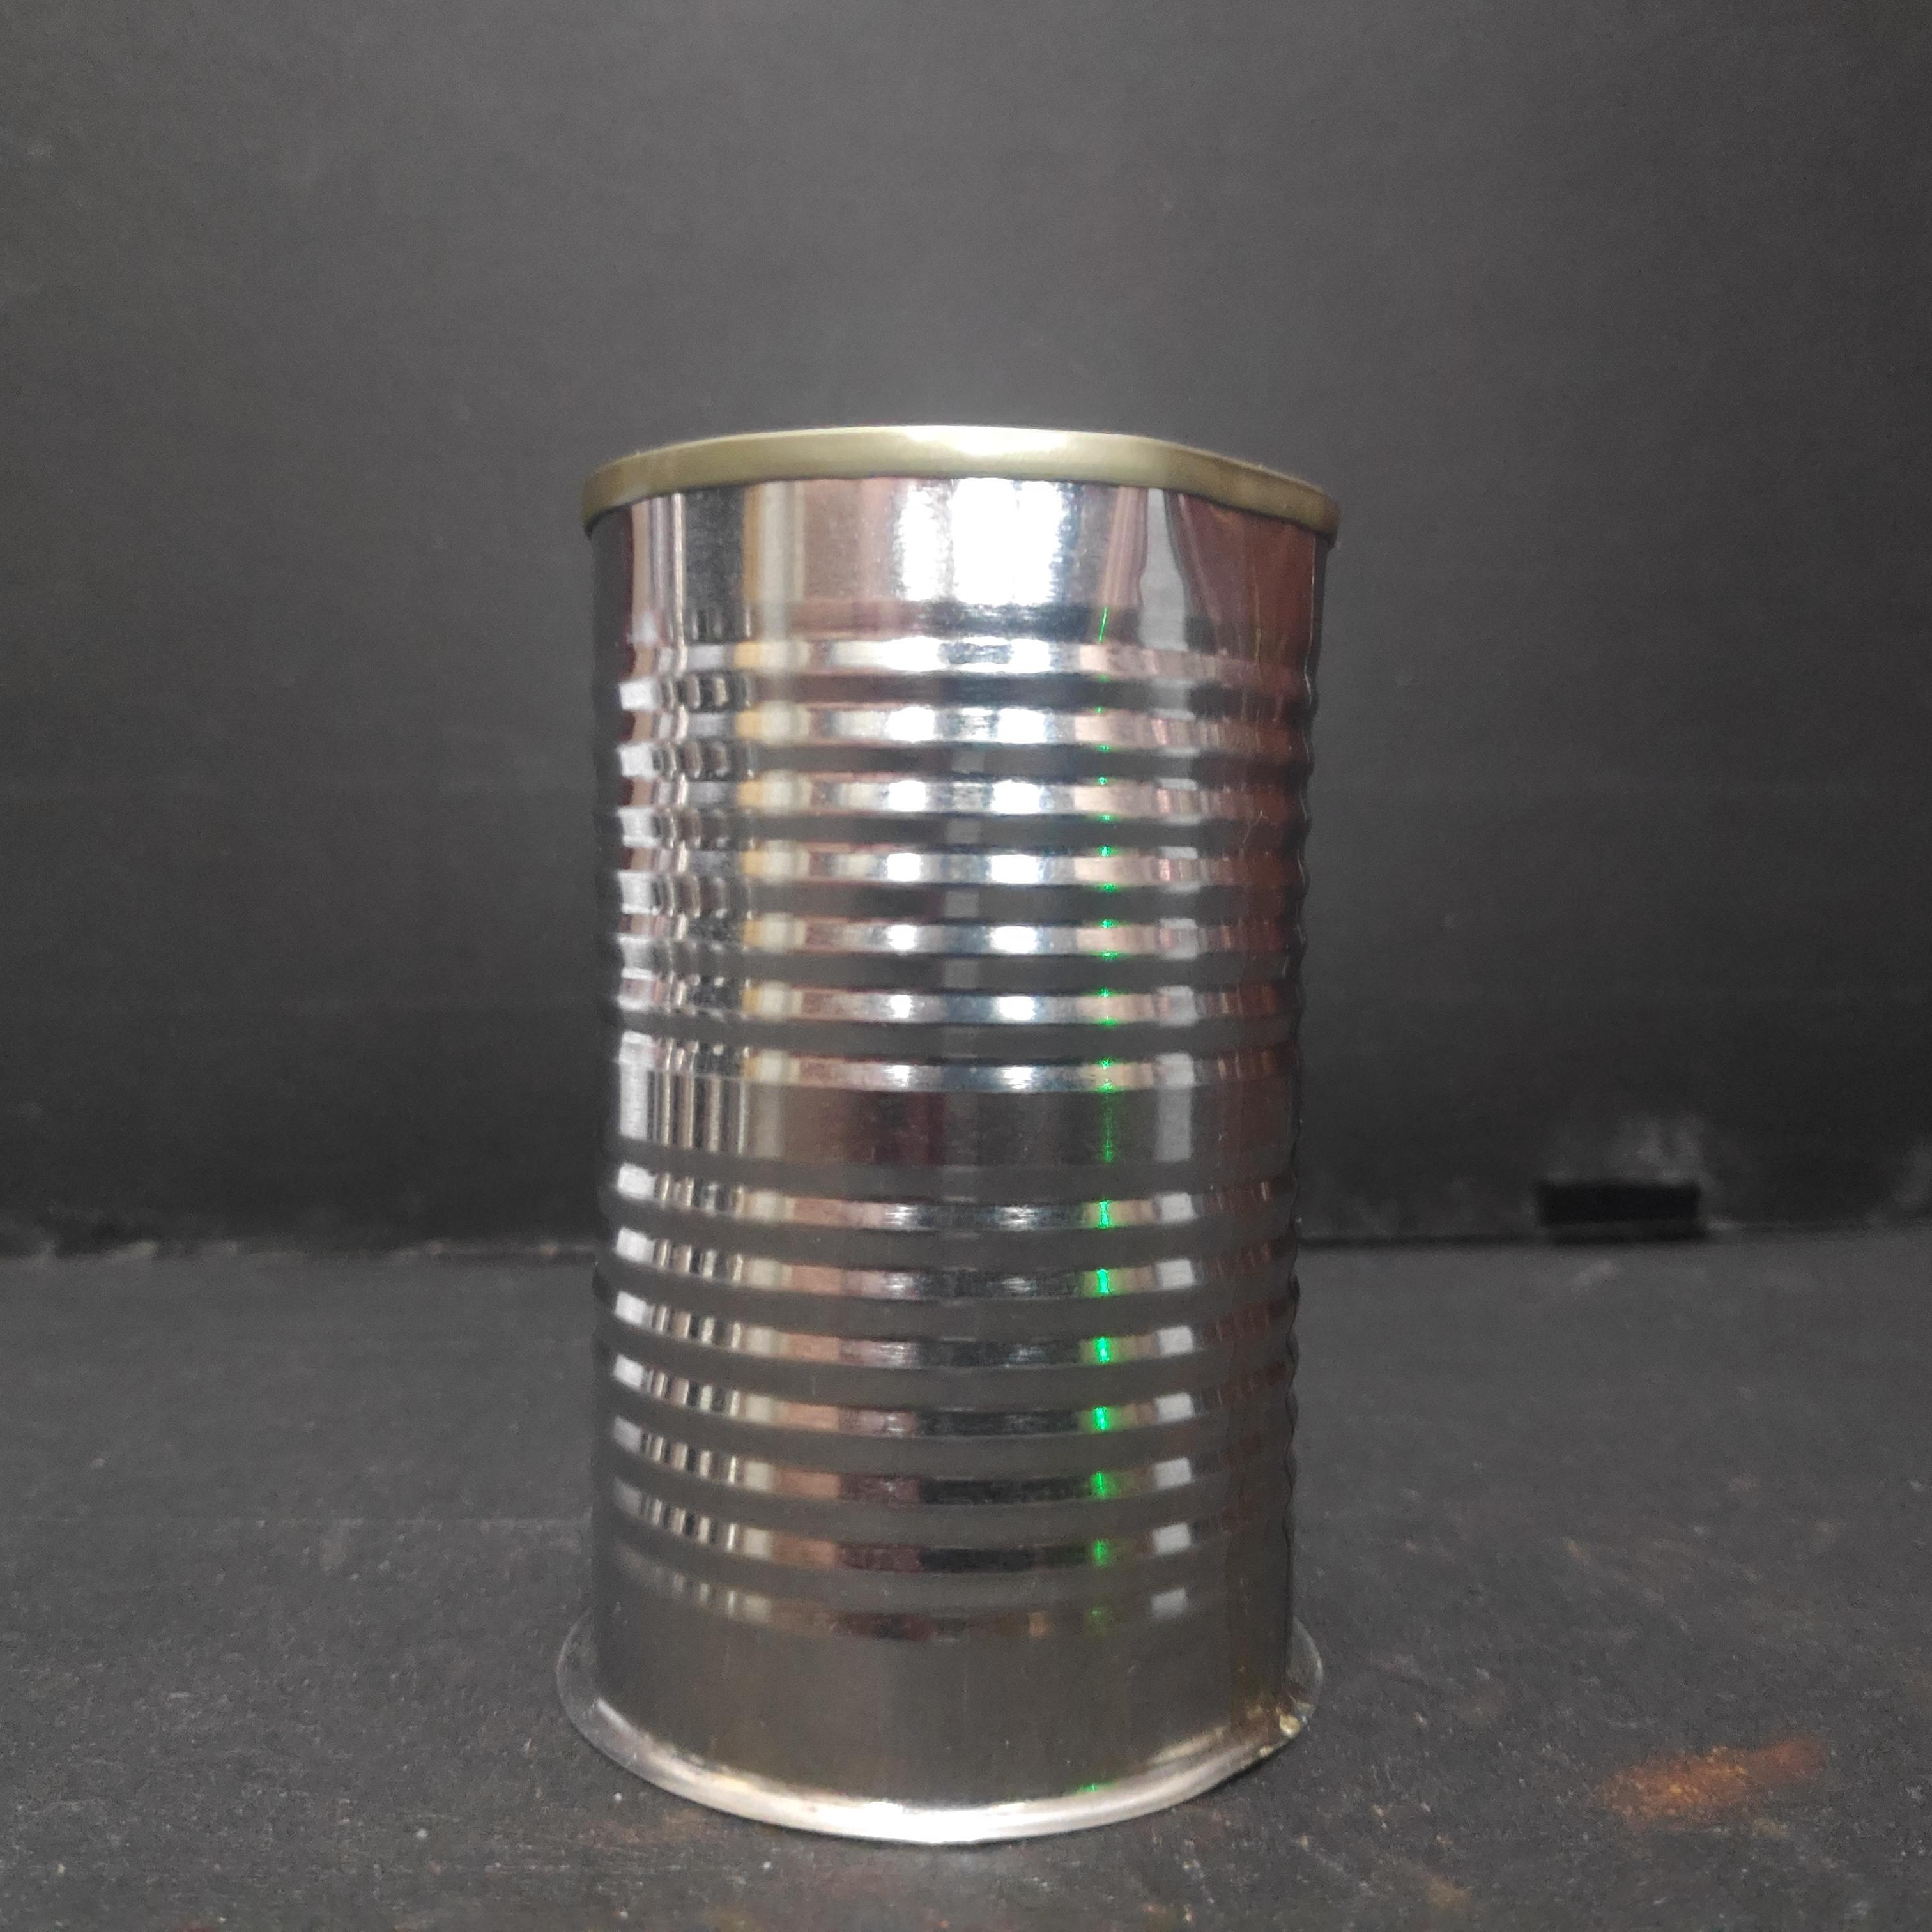Minor Defect: (561, 412, 1355, 1851)
